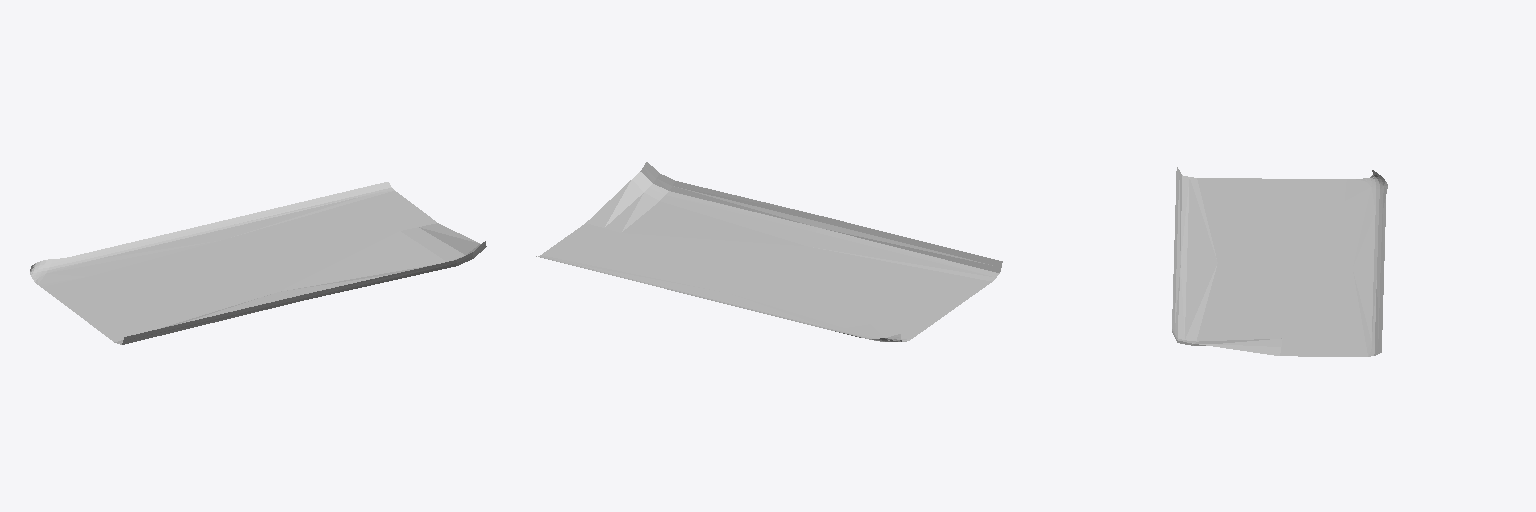
The model's file is room_blueprint.obj.
The picture shows the model from 3 angles: view 1: azimuth 30°, elevation 25°; view 2: azimuth 150°, elevation 25°; view 3: azimuth 270°, elevation 25°; orthographic projection.
Size of the model in its own units: 48.29 by 3.12 by 24.75.